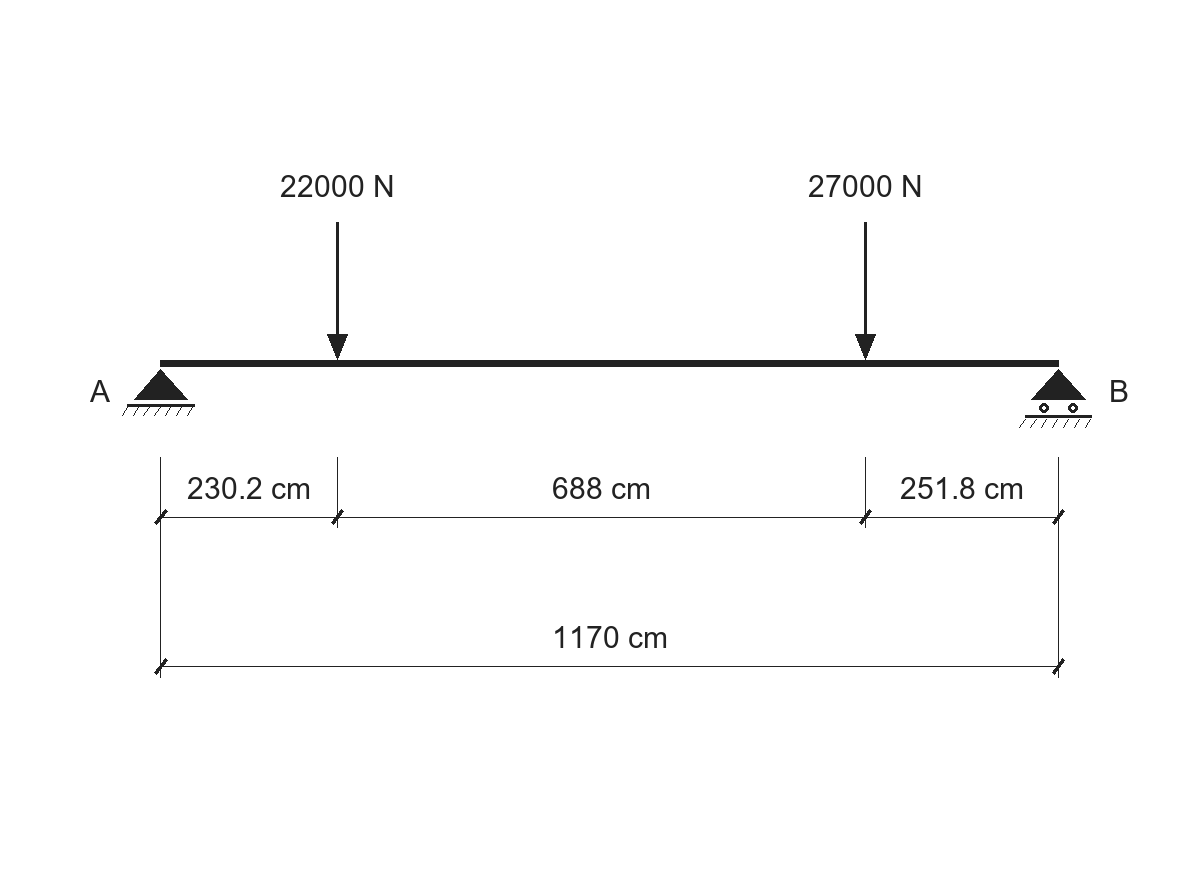pin_support: (122, 369, 195, 416)
point_load: (327, 222, 348, 360), (855, 222, 876, 360)
roller_support: (1019, 369, 1092, 428)
